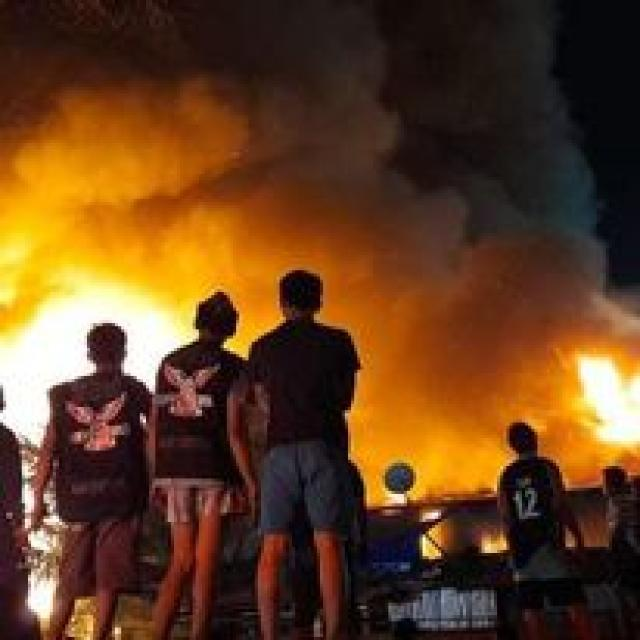Fire: (2, 276, 95, 426), (564, 336, 640, 455)
Smoke: (0, 0, 640, 264)
